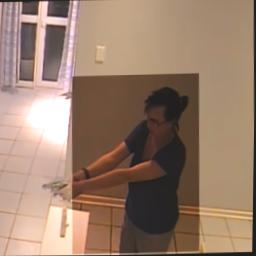nonspitting: (70, 74, 204, 255)
